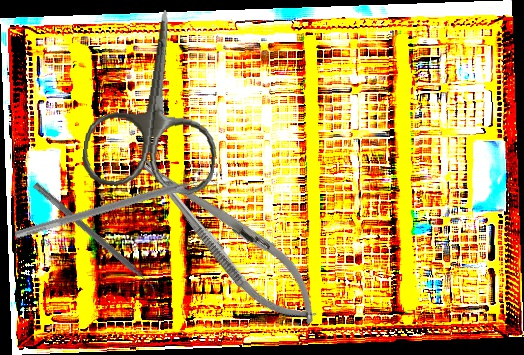Iris Scissors: (79, 2, 233, 198)
Needle Holder: (122, 137, 334, 340)
Spatula Surgical: (14, 169, 220, 248), (28, 181, 161, 297)
